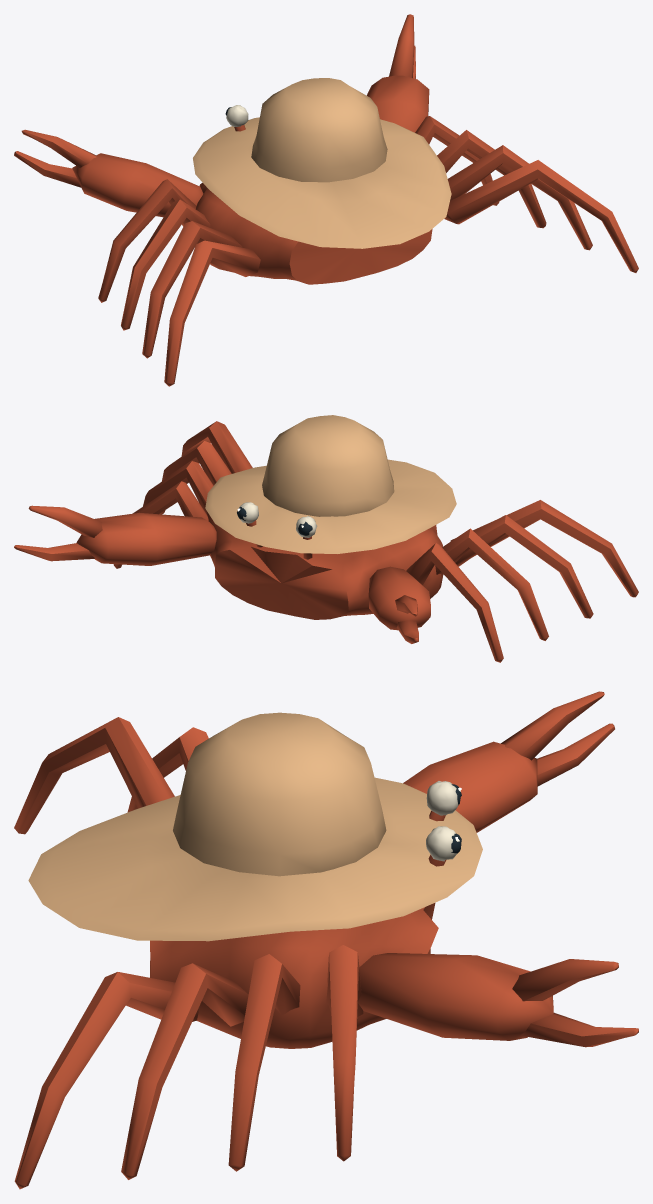
File: crab_helper.glb
3 views of the same model, one above another, from view 1: azimuth 30°, elevation 25°; view 2: azimuth 150°, elevation 25°; view 3: azimuth 270°, elevation 25° (orthographic). The views are drawn at different scales.
Parts seen in each view (by area): view 1: crab_helper; view 2: crab_helper; view 3: crab_helper.
Boxes of the visible parts, bbox=[...] form: crab_helper: bbox=[14, 14, 638, 386]; crab_helper: bbox=[14, 415, 638, 662]; crab_helper: bbox=[14, 691, 638, 1189].
Size of the model in its own units: 0.7933 by 0.2859 by 0.5813.
